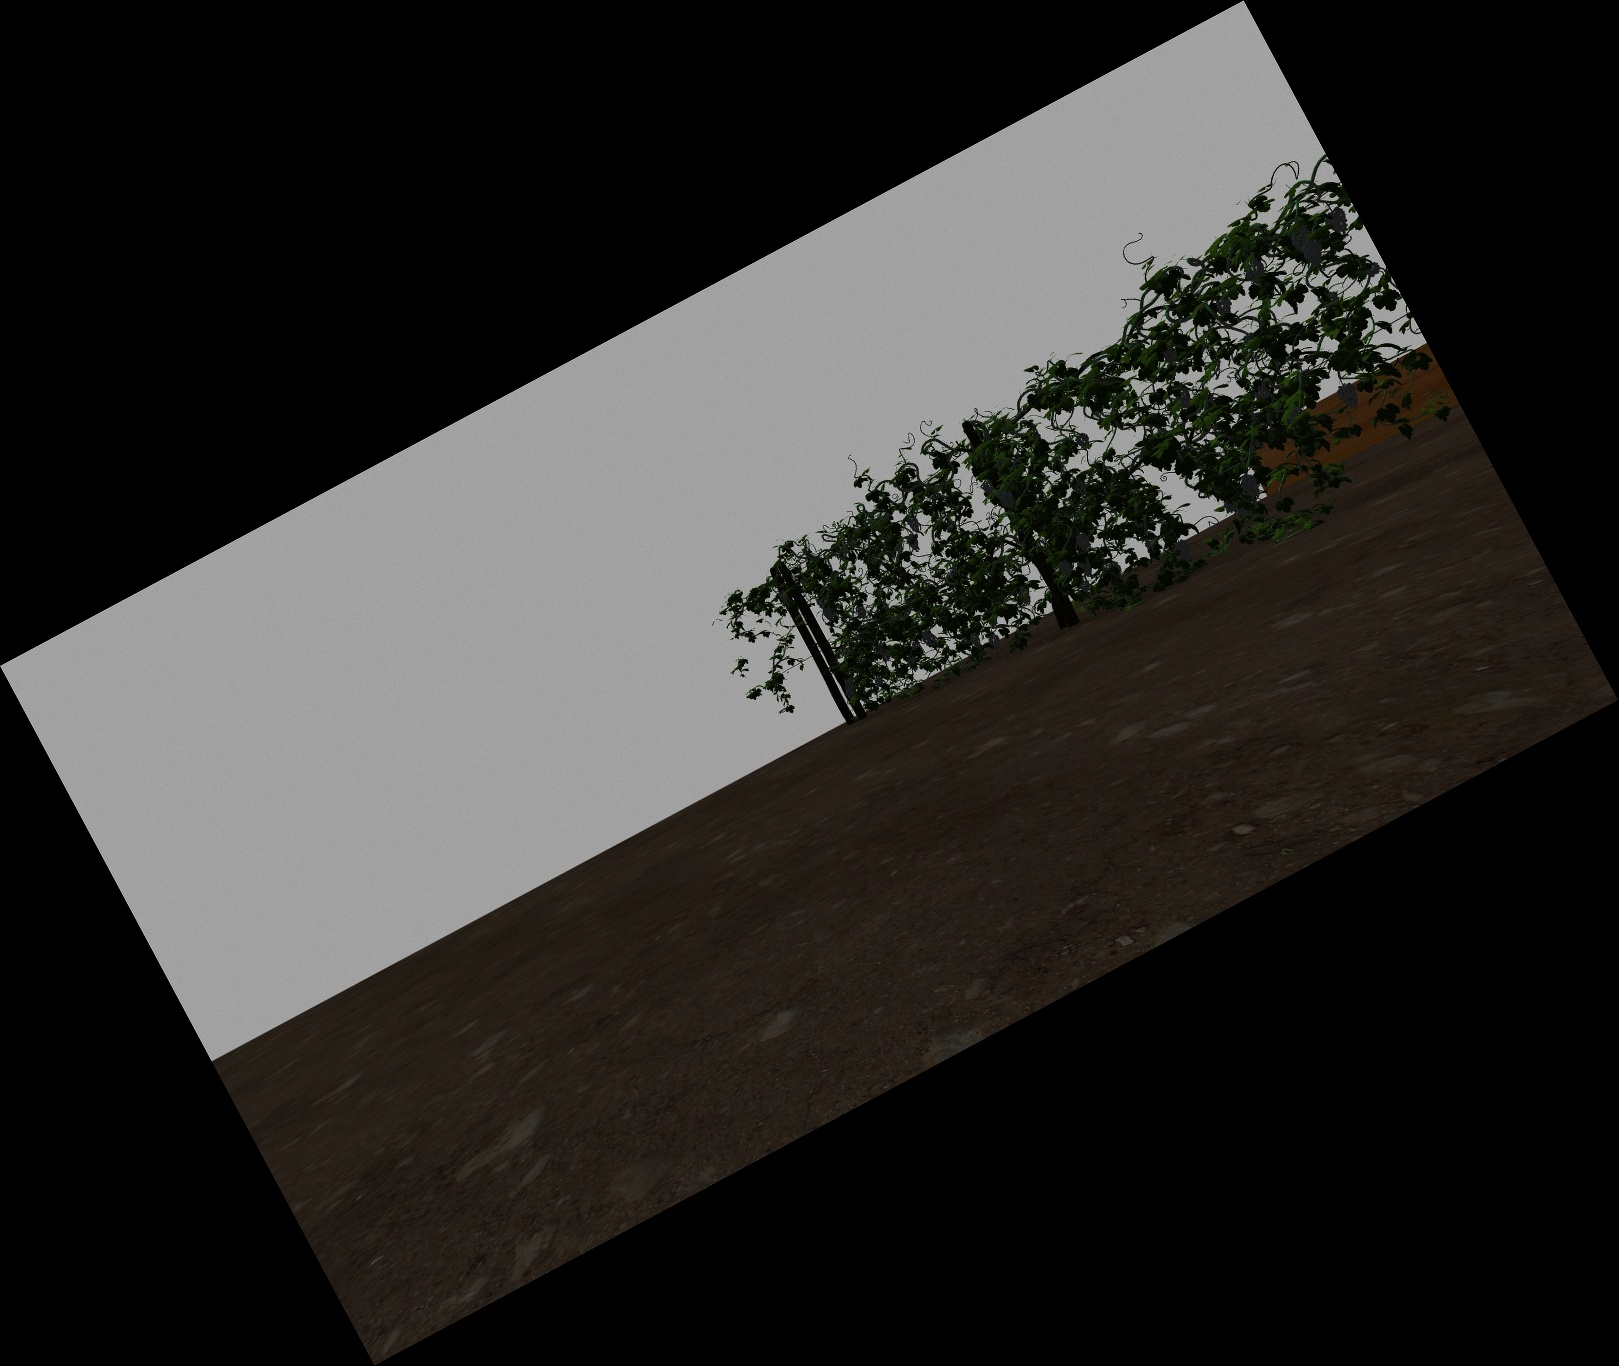grape: (1297, 225, 1321, 268), (1329, 207, 1348, 234), (1340, 382, 1359, 409), (1242, 474, 1259, 499), (998, 488, 1015, 510), (1177, 539, 1192, 562), (1077, 533, 1091, 552), (1058, 558, 1072, 577), (1078, 557, 1092, 575), (908, 533, 920, 552), (923, 630, 936, 646), (1078, 434, 1091, 450), (822, 604, 835, 621), (982, 480, 994, 495), (990, 634, 1001, 650), (971, 632, 981, 649), (879, 646, 890, 661), (909, 515, 919, 531), (856, 603, 866, 619), (780, 589, 790, 606), (845, 688, 855, 699), (845, 678, 854, 690), (875, 678, 883, 686)
